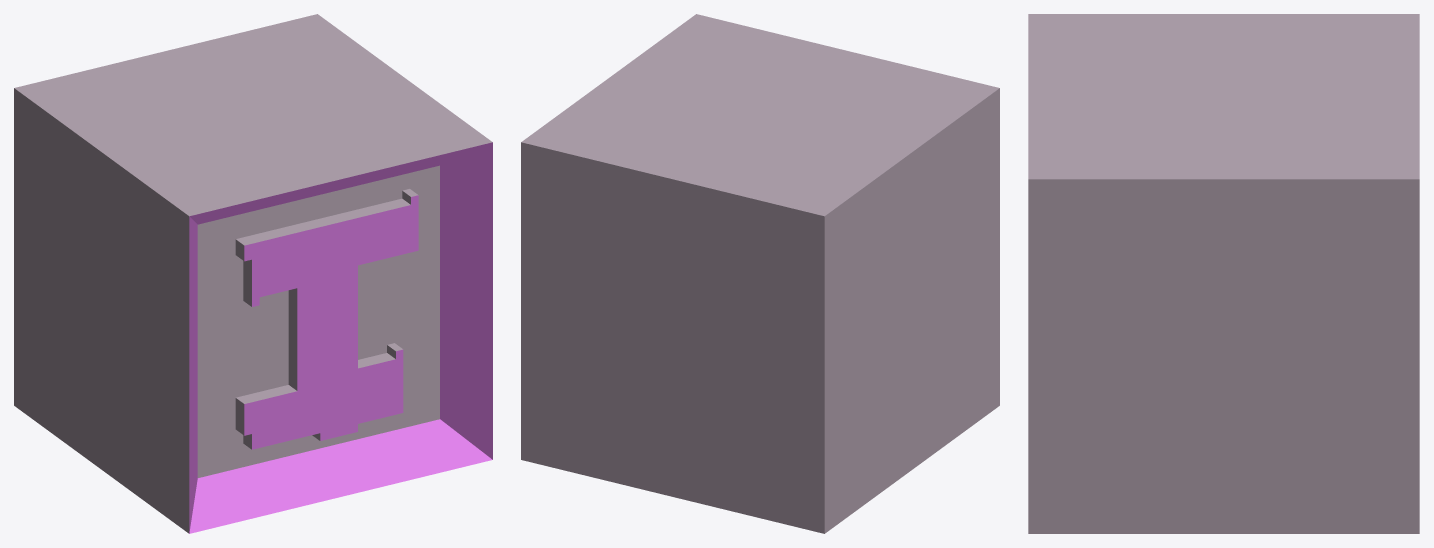
The model's file is BlockI.fbx.
3 views of the same model, side by side, from view 1: azimuth 30°, elevation 25°; view 2: azimuth 150°, elevation 25°; view 3: azimuth 270°, elevation 25° (orthographic). The views are drawn at different scales.
Parts seen in each view (by area): view 1: Cube; view 2: Cube; view 3: Cube.
Part boxes in pixels (left/top/right/bottom): Cube: left=14, top=14, right=492, bottom=533; Cube: left=521, top=14, right=999, bottom=533; Cube: left=1028, top=14, right=1419, bottom=533.
Bounding box in the file's own units: 2000 × 2000 × 2000.
